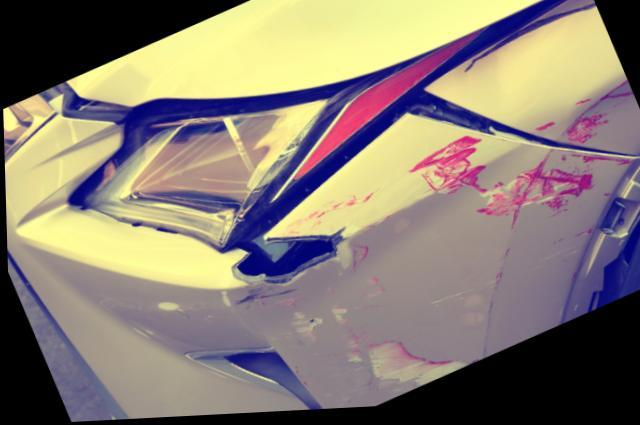crack: (233, 236, 333, 287)
dislocated part: (401, 90, 640, 170)
scratch: (231, 135, 629, 403), (462, 5, 596, 80), (531, 86, 637, 148)
